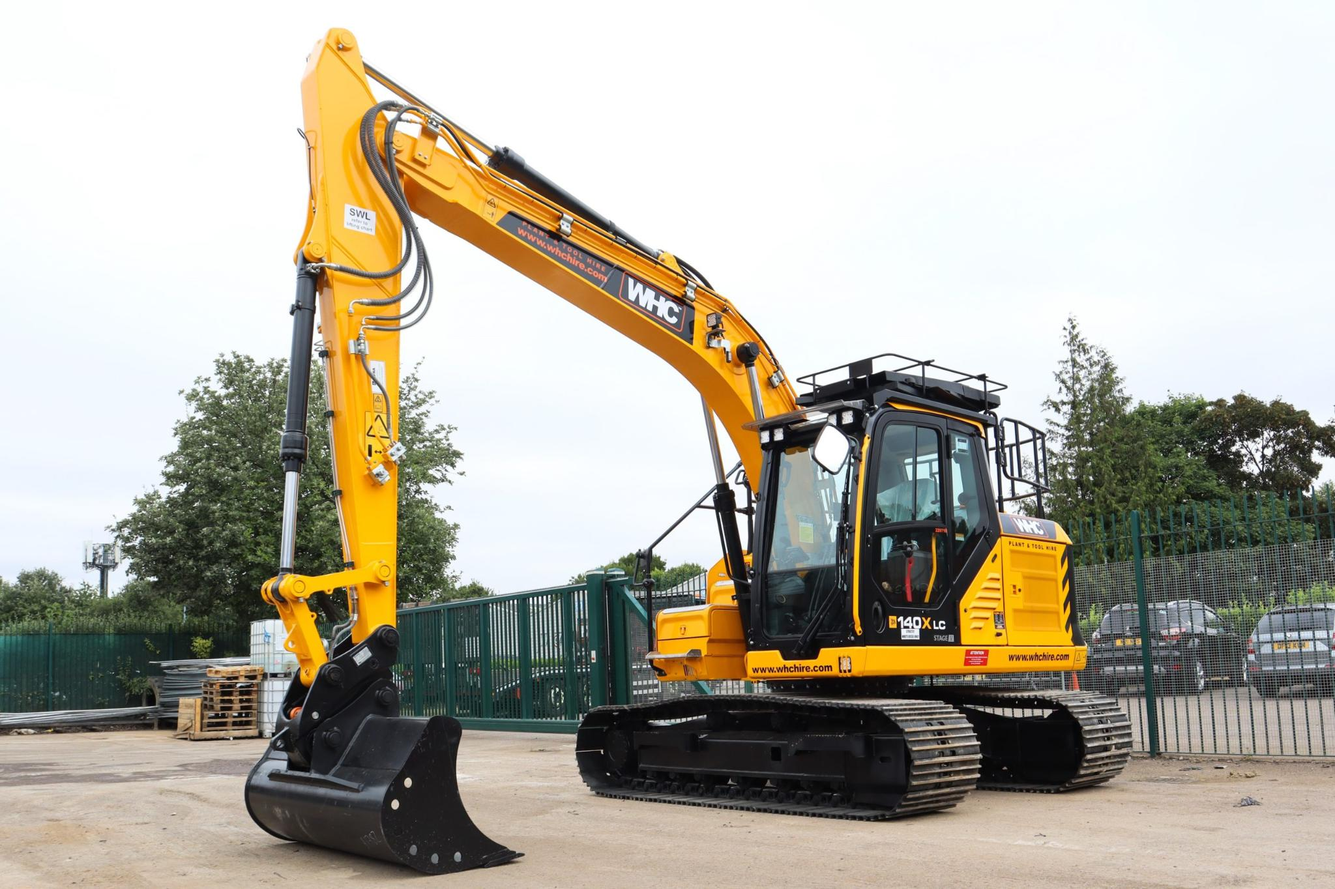excavator: (209, 31, 1135, 889)
